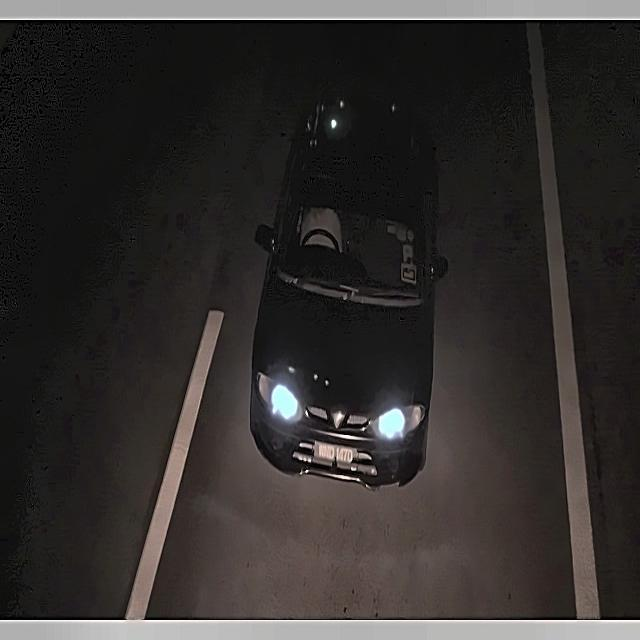car: (308, 436, 361, 476)
